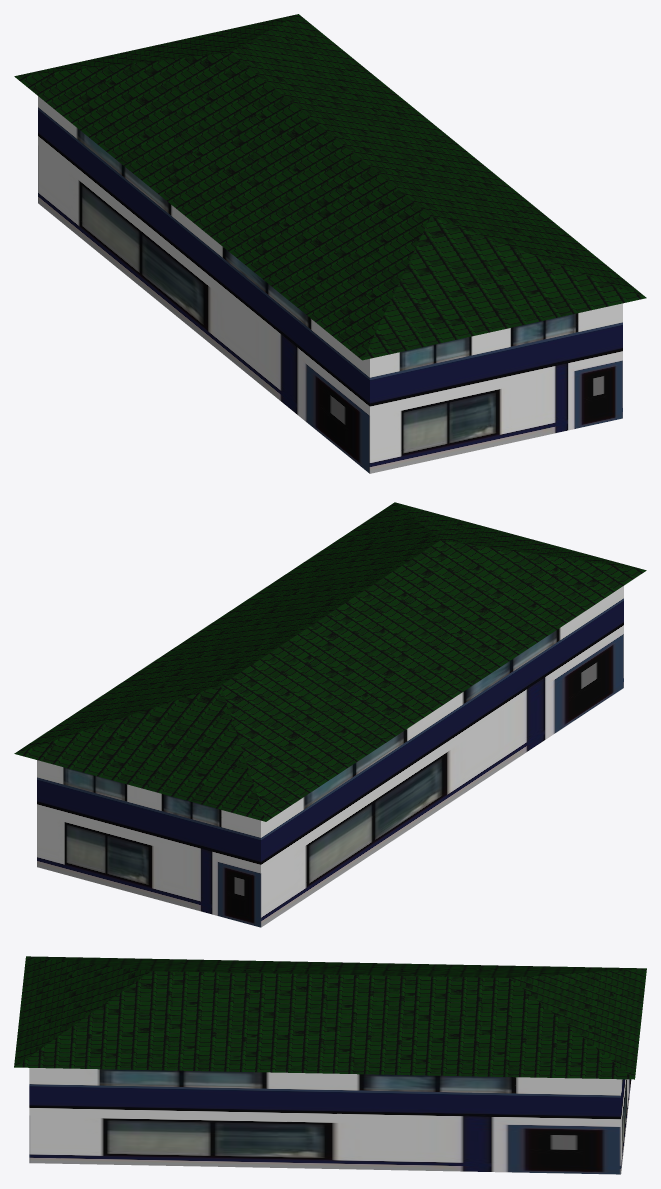
The picture shows the model from 3 angles, top to bottom: view 1: azimuth 30°, elevation 25°; view 2: azimuth 150°, elevation 25°; view 3: azimuth 270°, elevation 25°; orthographic projection. The views are drawn at different scales.
Parts seen in each view (by area): view 1: CityEngineMaterial_13_m, CityEngineMaterial_2_m; view 2: CityEngineMaterial_13_m, CityEngineMaterial_2_m; view 3: CityEngineMaterial_13_m, CityEngineMaterial_2_m.
Boxes of the visible parts, x1,y1,x2,y2 form: CityEngineMaterial_13_m: (14, 14, 646, 360); CityEngineMaterial_2_m: (38, 96, 622, 473); CityEngineMaterial_13_m: (14, 502, 646, 821); CityEngineMaterial_2_m: (37, 586, 623, 927); CityEngineMaterial_13_m: (14, 956, 646, 1079); CityEngineMaterial_2_m: (29, 1068, 631, 1174).
Size of the model in its own units: 18.77 by 10.31 by 40.79.
